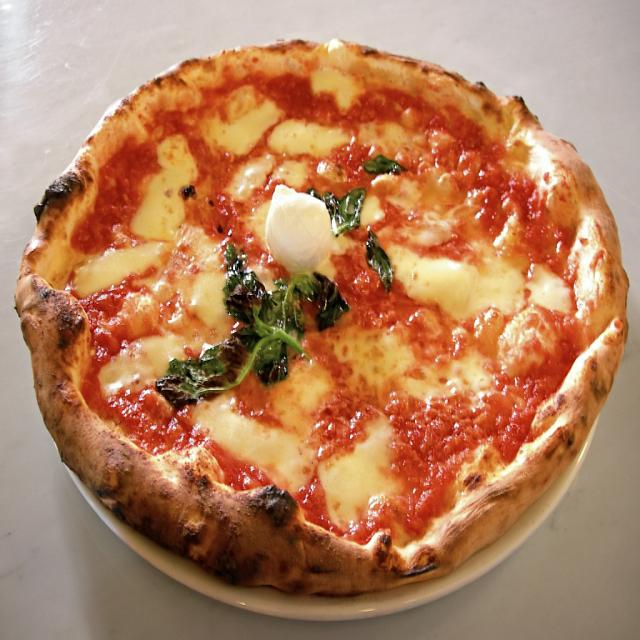pizza: (14, 38, 628, 614)
